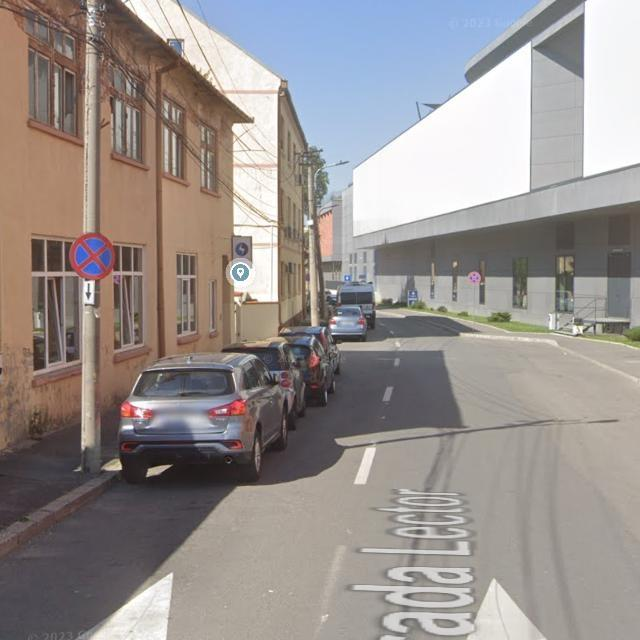forb_waiting: (70, 231, 116, 280)
